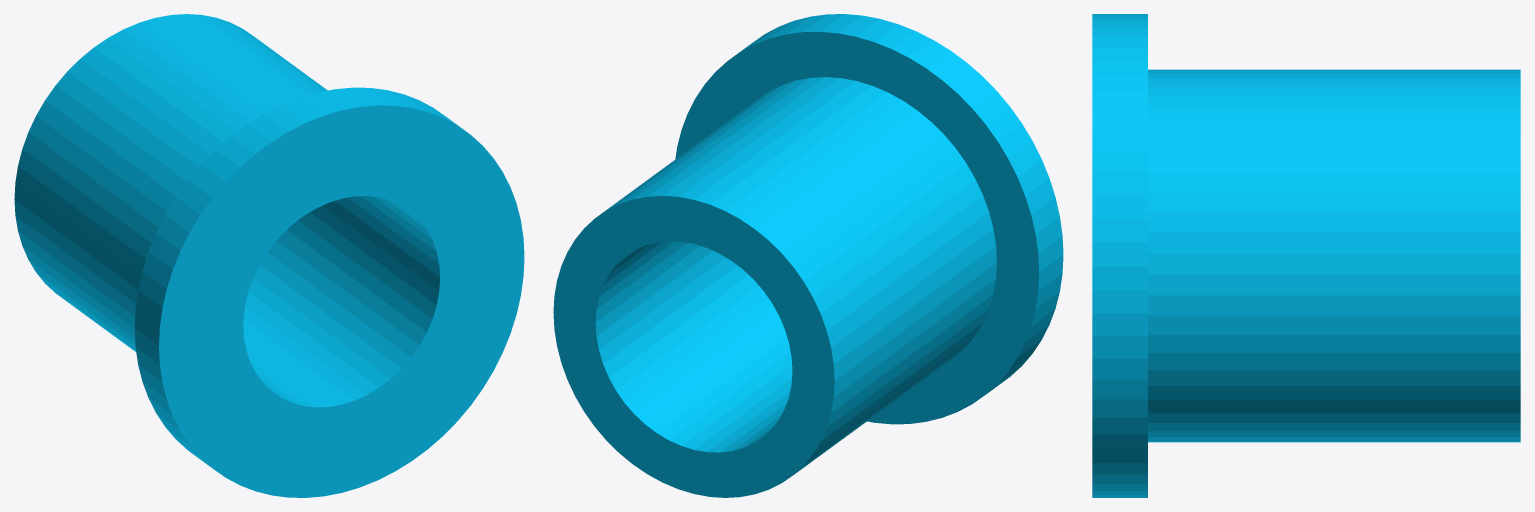
Rendered from spindle_collar.glb.
3 renders of one model, left to right at view 1: azimuth 30°, elevation 25°; view 2: azimuth 150°, elevation 25°; view 3: azimuth 270°, elevation 25°, orthographic. The views are drawn at different scales.
Parts seen in each view (by area): view 1: Node1; view 2: Node1; view 3: Node1.
Boxes of the visible parts, x1,y1,x2,y2 form: Node1: (14, 14, 524, 497); Node1: (553, 14, 1063, 497); Node1: (1092, 14, 1520, 497).
Bounding box in the file's own units: 130 × 130 × 115.
